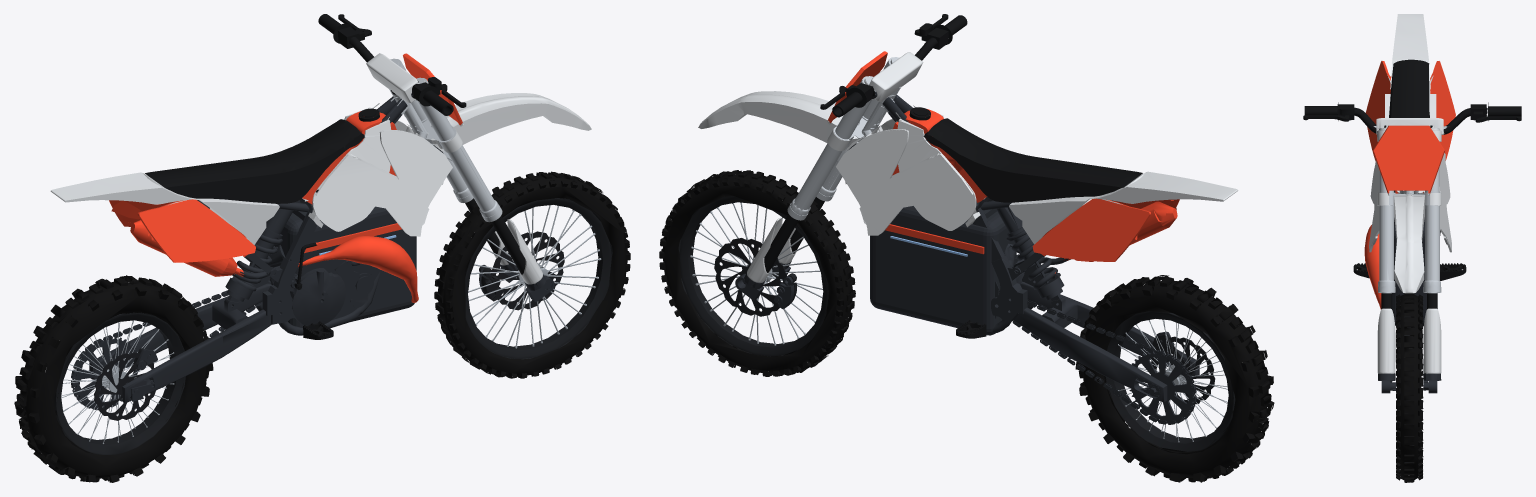
Rendered from pro.glb.
3 renders of one model, left to right at view 1: azimuth 30°, elevation 25°; view 2: azimuth 150°, elevation 25°; view 3: azimuth 270°, elevation 25°, orthographic. The views are drawn at different scales.
Parts seen in each view (by area): view 1: Object_13, Object_15, Object_3, Object_2, Object_14, GT_stripe, Object_11, GT_battery, Object_10, Object_5; view 2: Object_13, Object_15, Object_3, GT_battery, Object_14, Object_2, GT_stripe, Object_11, Object_5, Object_10; view 3: Object_15, GT_stripe, Object_14, Object_13, Object_5, Object_10, Object_3, GT_battery.
Boxes of the visible parts, bbox=[...] form: Object_13: bbox=[14, 171, 630, 482]; Object_15: bbox=[50, 53, 591, 284]; Object_3: bbox=[71, 93, 554, 410]; Object_2: bbox=[54, 198, 612, 454]; Object_14: bbox=[145, 14, 525, 339]; GT_stripe: bbox=[109, 53, 462, 262]; Object_11: bbox=[61, 205, 601, 443]; GT_battery: bbox=[270, 201, 416, 327]; Object_10: bbox=[130, 111, 418, 302]; Object_5: bbox=[388, 58, 502, 222]; Object_13: bbox=[659, 170, 1274, 482]; Object_15: bbox=[698, 52, 1238, 282]; Object_3: bbox=[735, 91, 1199, 424]; GT_battery: bbox=[870, 201, 1016, 335]; Object_14: bbox=[764, 14, 1142, 338]; Object_2: bbox=[678, 196, 1235, 451]; GT_stripe: bbox=[828, 51, 1179, 261]; Object_11: bbox=[690, 202, 1227, 442]; Object_5: bbox=[787, 57, 901, 220]; Object_10: bbox=[892, 109, 1177, 273]; Object_15: bbox=[1369, 14, 1451, 373]; GT_stripe: bbox=[1366, 61, 1455, 193]; Object_14: bbox=[1303, 59, 1521, 309]; Object_13: bbox=[1396, 293, 1423, 482]; Object_5: bbox=[1373, 125, 1446, 293]; Object_10: bbox=[1364, 76, 1423, 309]; Object_3: bbox=[1378, 126, 1449, 393]; GT_battery: bbox=[1392, 190, 1426, 326].
Size of the model in its own units: 2.14 by 1.19 by 0.7611.
